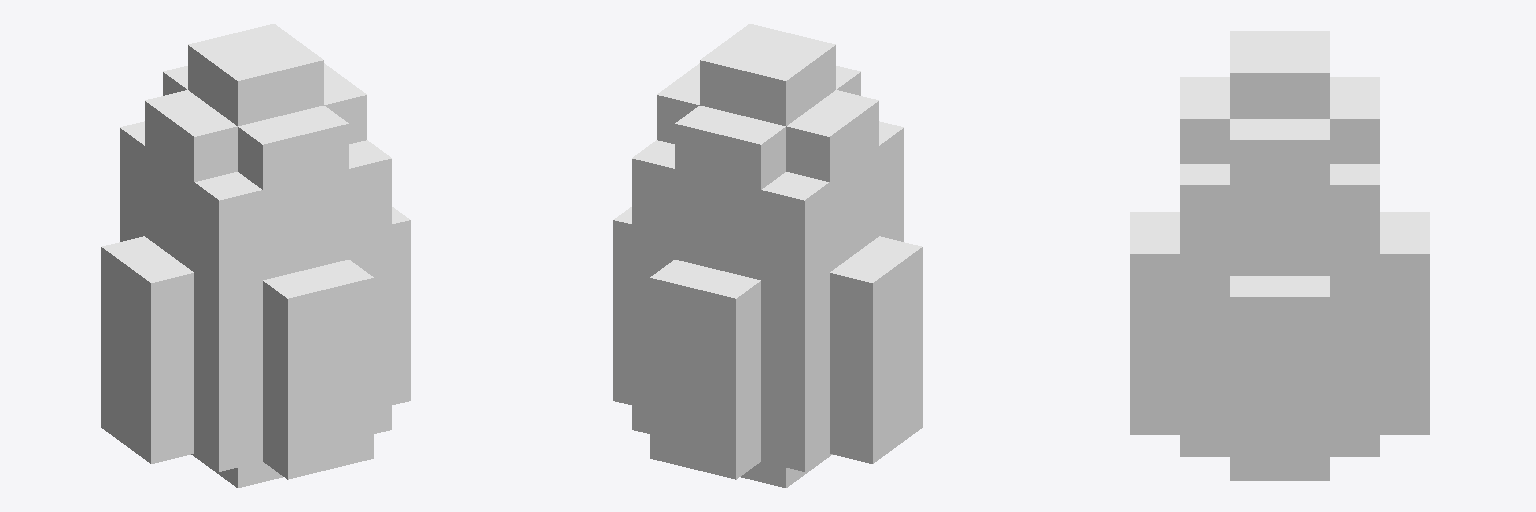
The model's file is bush_2.obj.
The picture shows the model from 3 angles: view 1: azimuth 30°, elevation 25°; view 2: azimuth 150°, elevation 25°; view 3: azimuth 270°, elevation 25°; orthographic projection.
Parts seen in each view (by area): view 1: object 1; view 2: object 1; view 3: object 1.
Boxes of the visible parts, <box> form: object 1: <box>101,24,410,487</box>; object 1: <box>613,24,922,487</box>; object 1: <box>1130,31,1429,480</box>.
Bounding box in the file's own units: 0.6 × 0.9 × 0.6.